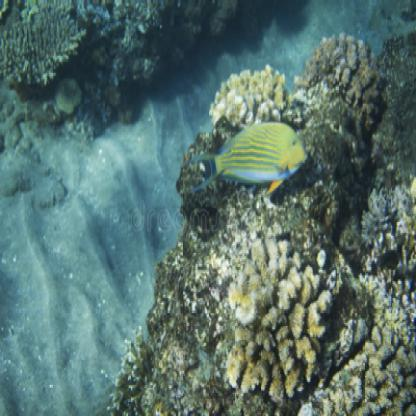Bio: (179, 115, 312, 210)
